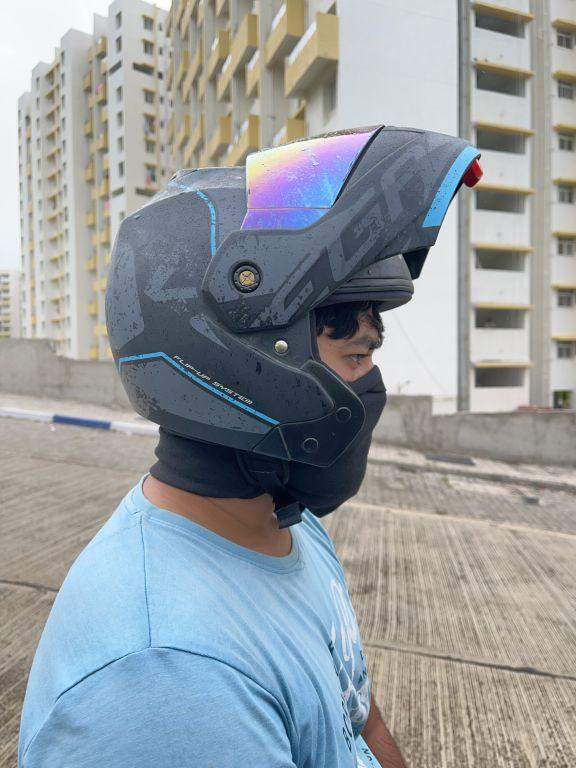helmet: (92, 114, 486, 547)
